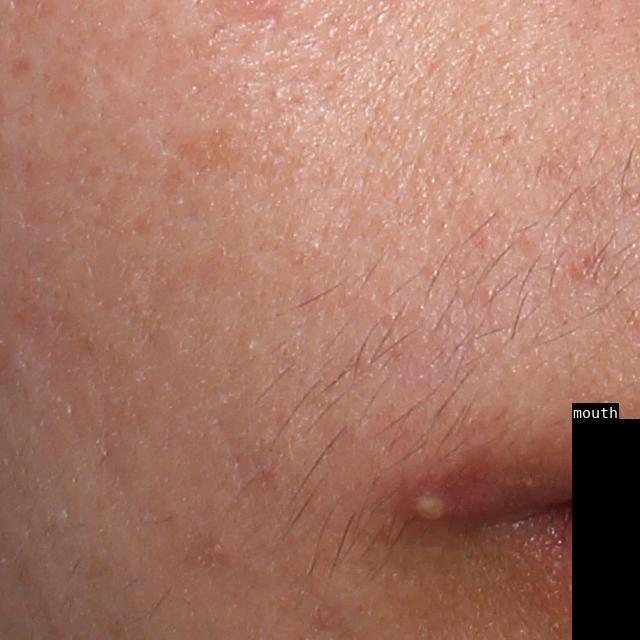pustule: (409, 482, 473, 535)
